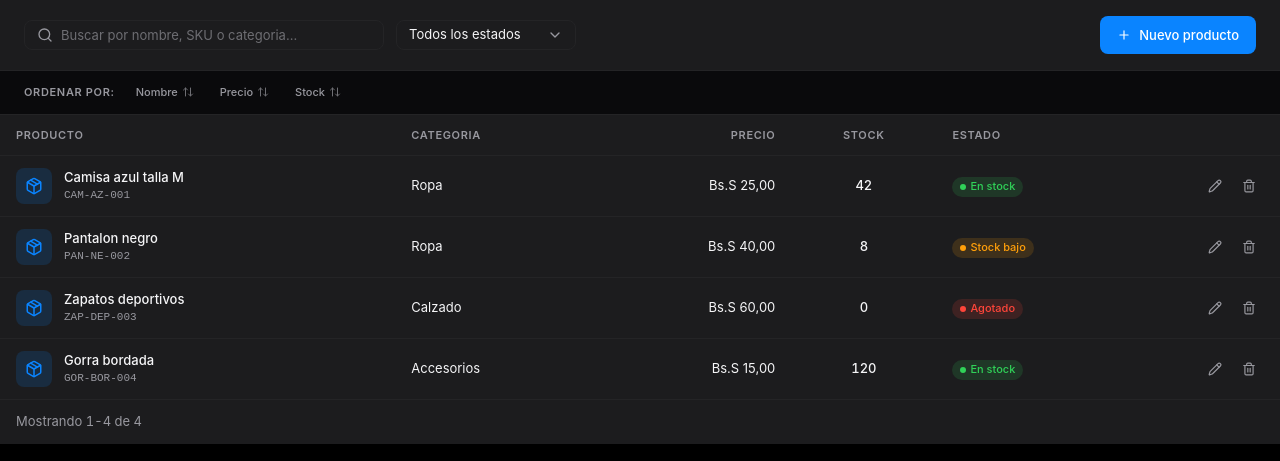
Test: ProductsList › shows "no results" state when filters return empty
Expected: the text "Camisa azul talla M" is shown, [64,169,184,185]
Type "ZZZ_No_Existe" into the field with placeholder "Buscar por nombre, SKU o categoria..." at point(216, 35), box [61,21,371,49]
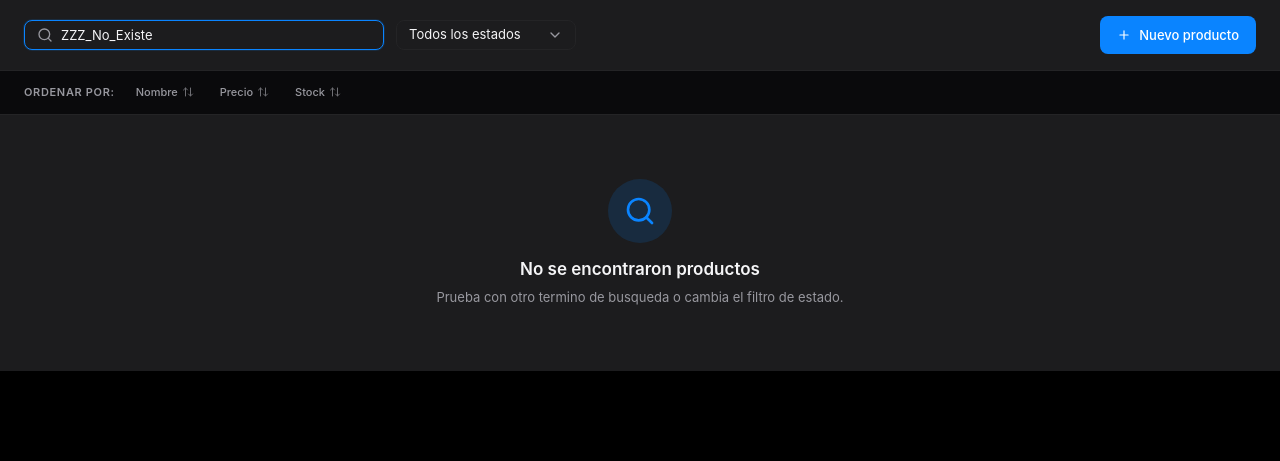
Expected: the heading "No se encontraron productos" is shown, [520,258,760,278]
